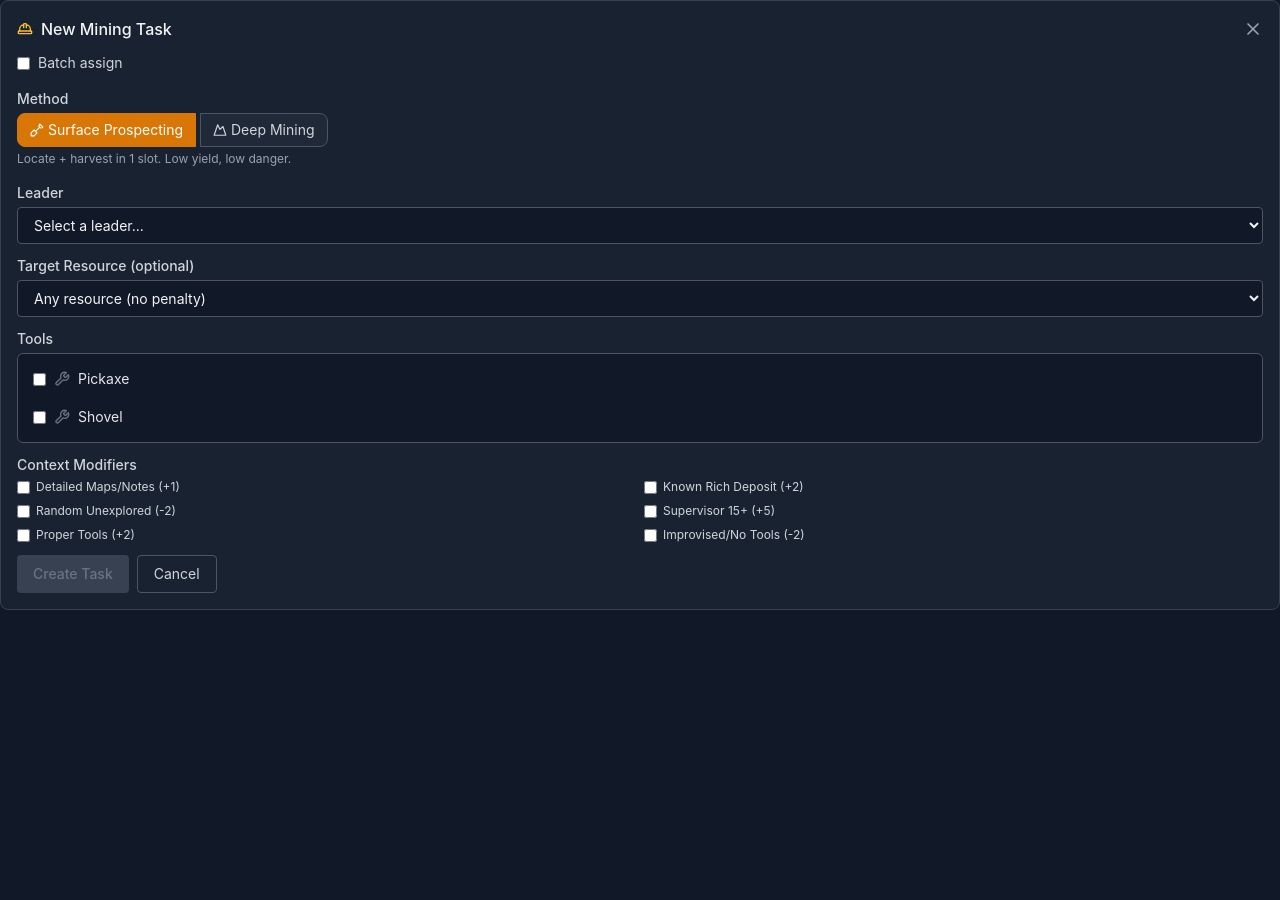
Test: MiningTaskForm › method switching › switches to Deep Mining description when clicked
What coordinates should you click on to do the following:
click the button "Deep Mining"
I would click on:
 (264, 130)
Its box is [200,113,328,147].
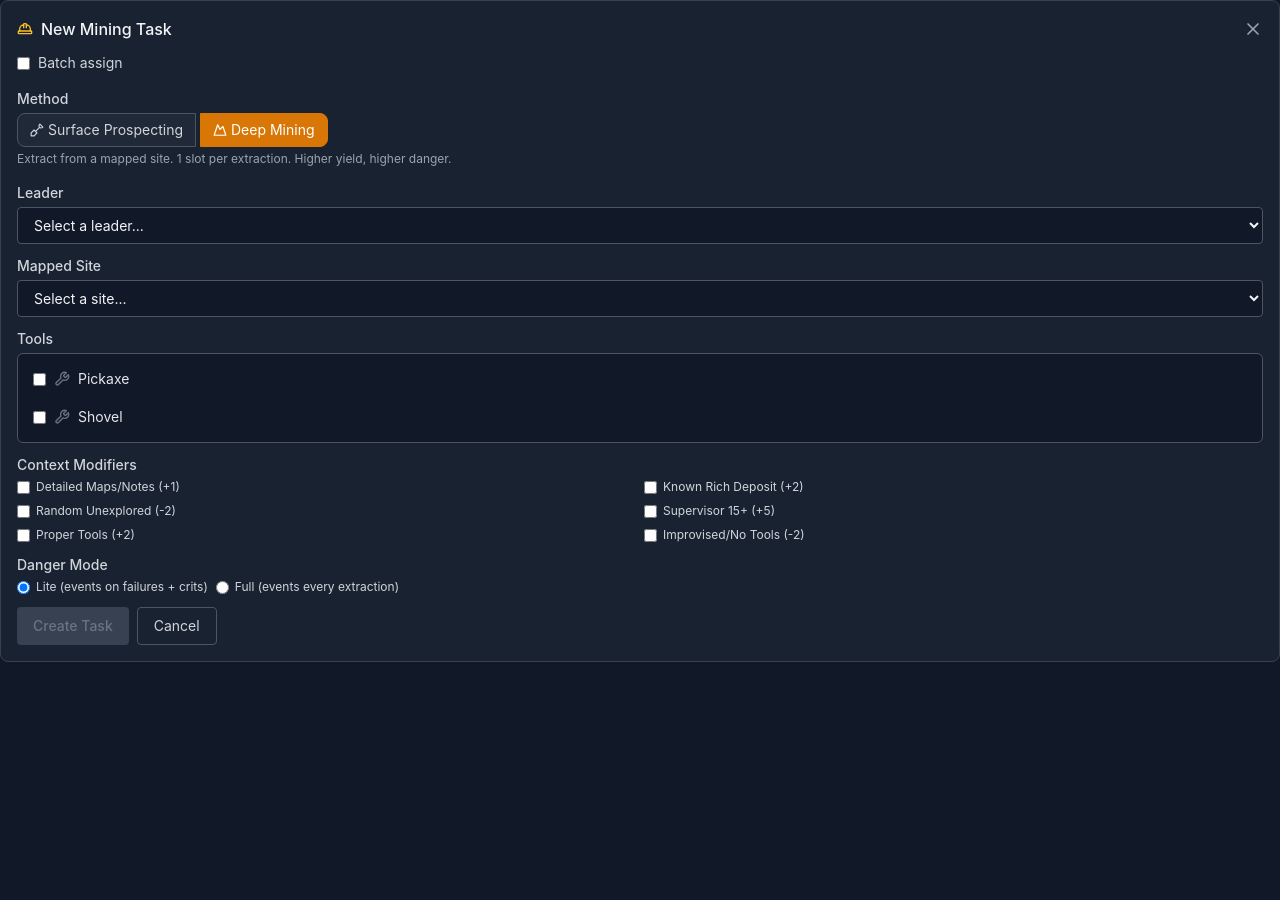
Check: the text "Extract from a mapped site" is shown, box [17,151,452,166]
